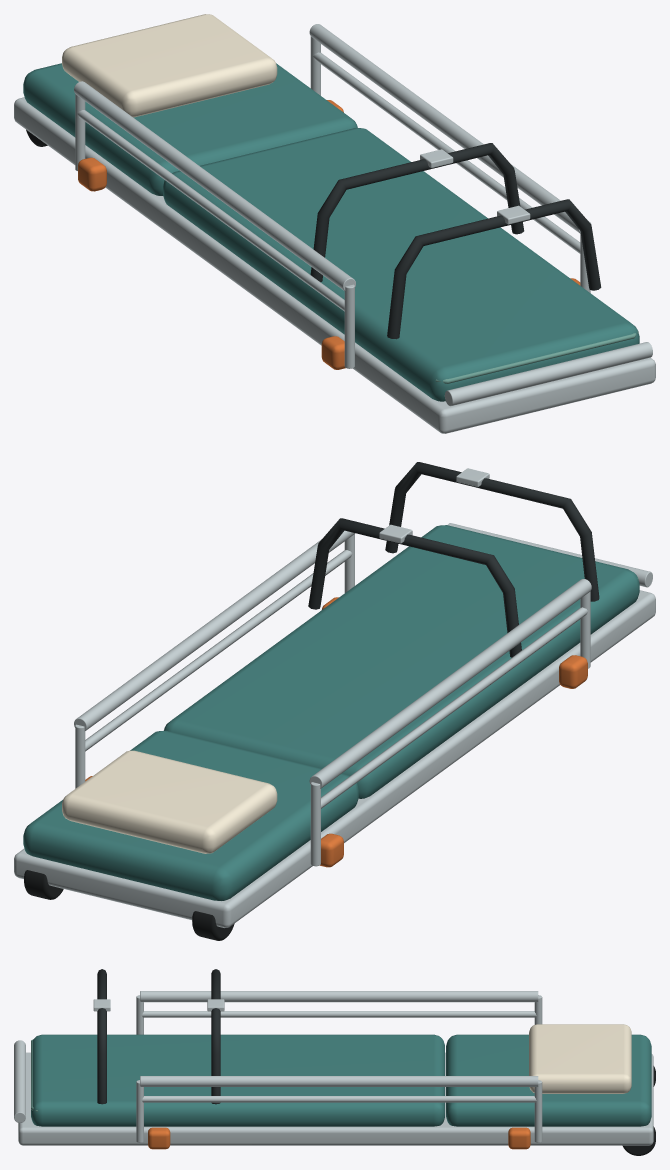
File: BraunDeck.fbx
The picture shows the model from 3 angles, top to bottom: view 1: azimuth 30°, elevation 25°; view 2: azimuth 150°, elevation 25°; view 3: azimuth 270°, elevation 25°; orthographic projection. The views are drawn at different scales.
Parts seen in each view (by area): view 1: BraunDeck; view 2: BraunDeck; view 3: BraunDeck.
Part boxes in pixels (<box>): BraunDeck: <box>14,14,655,433</box>; BraunDeck: <box>14,462,655,940</box>; BraunDeck: <box>14,969,655,1155</box>.
Bounding box in the file's own units: 69 × 44.2 × 203.
